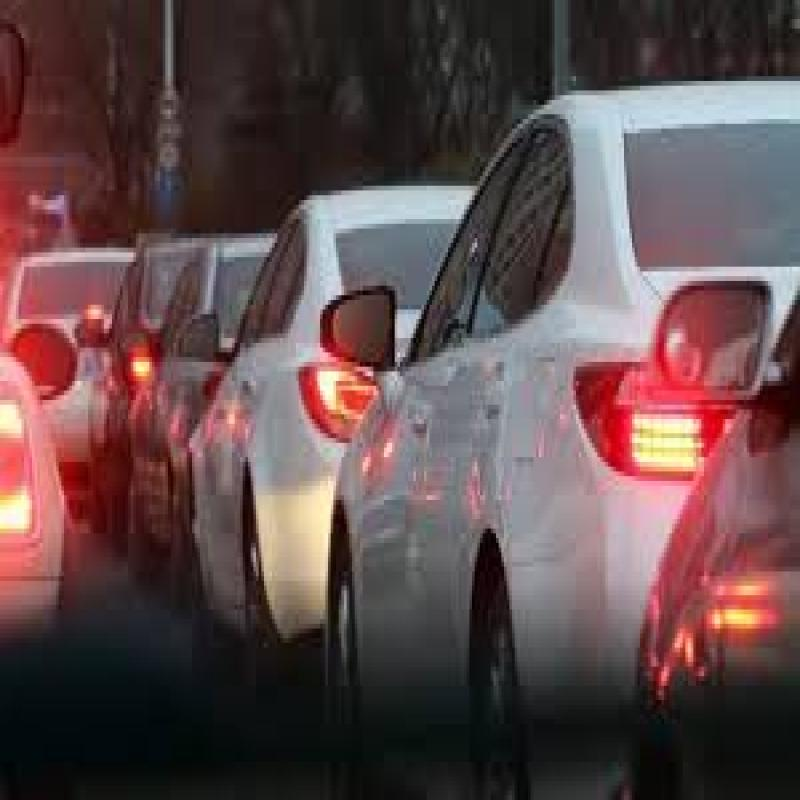car: (332, 126, 711, 725), (202, 172, 376, 638)
